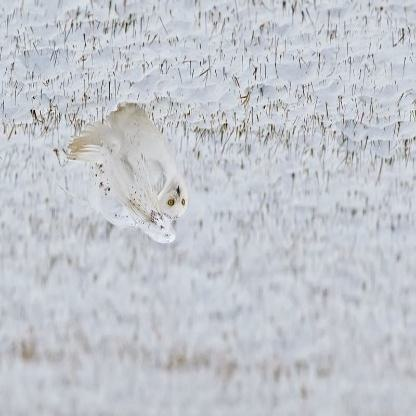Owl: (71, 106, 190, 243)
